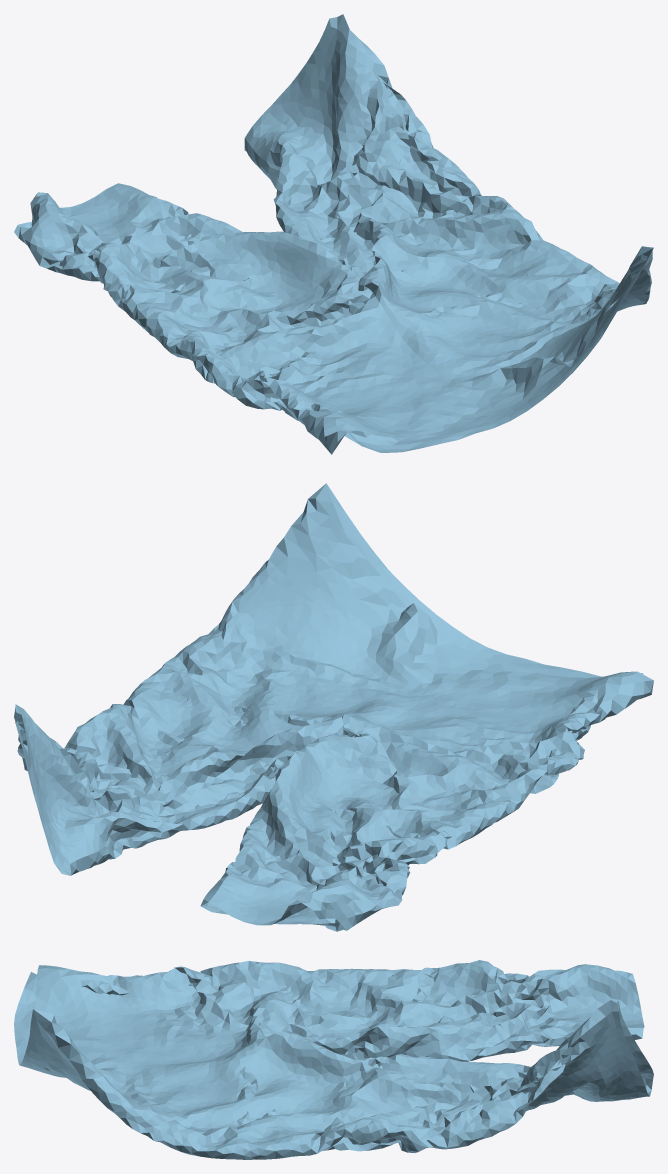
File: frame_04.glb
The picture shows the model from 3 angles, top to bottom: view 1: azimuth 30°, elevation 25°; view 2: azimuth 150°, elevation 25°; view 3: azimuth 270°, elevation 25°; orthographic projection. The views are drawn at different scales.
Parts seen in each view (by area): view 1: frame_04.obj; view 2: frame_04.obj; view 3: frame_04.obj.
Part boxes in pixels (x1,y1,x2,y2): frame_04.obj: (14, 14, 653, 454); frame_04.obj: (14, 483, 653, 931); frame_04.obj: (14, 960, 653, 1159).
Bounding box in the file's own units: 1.21 × 0.4221 × 1.76.
